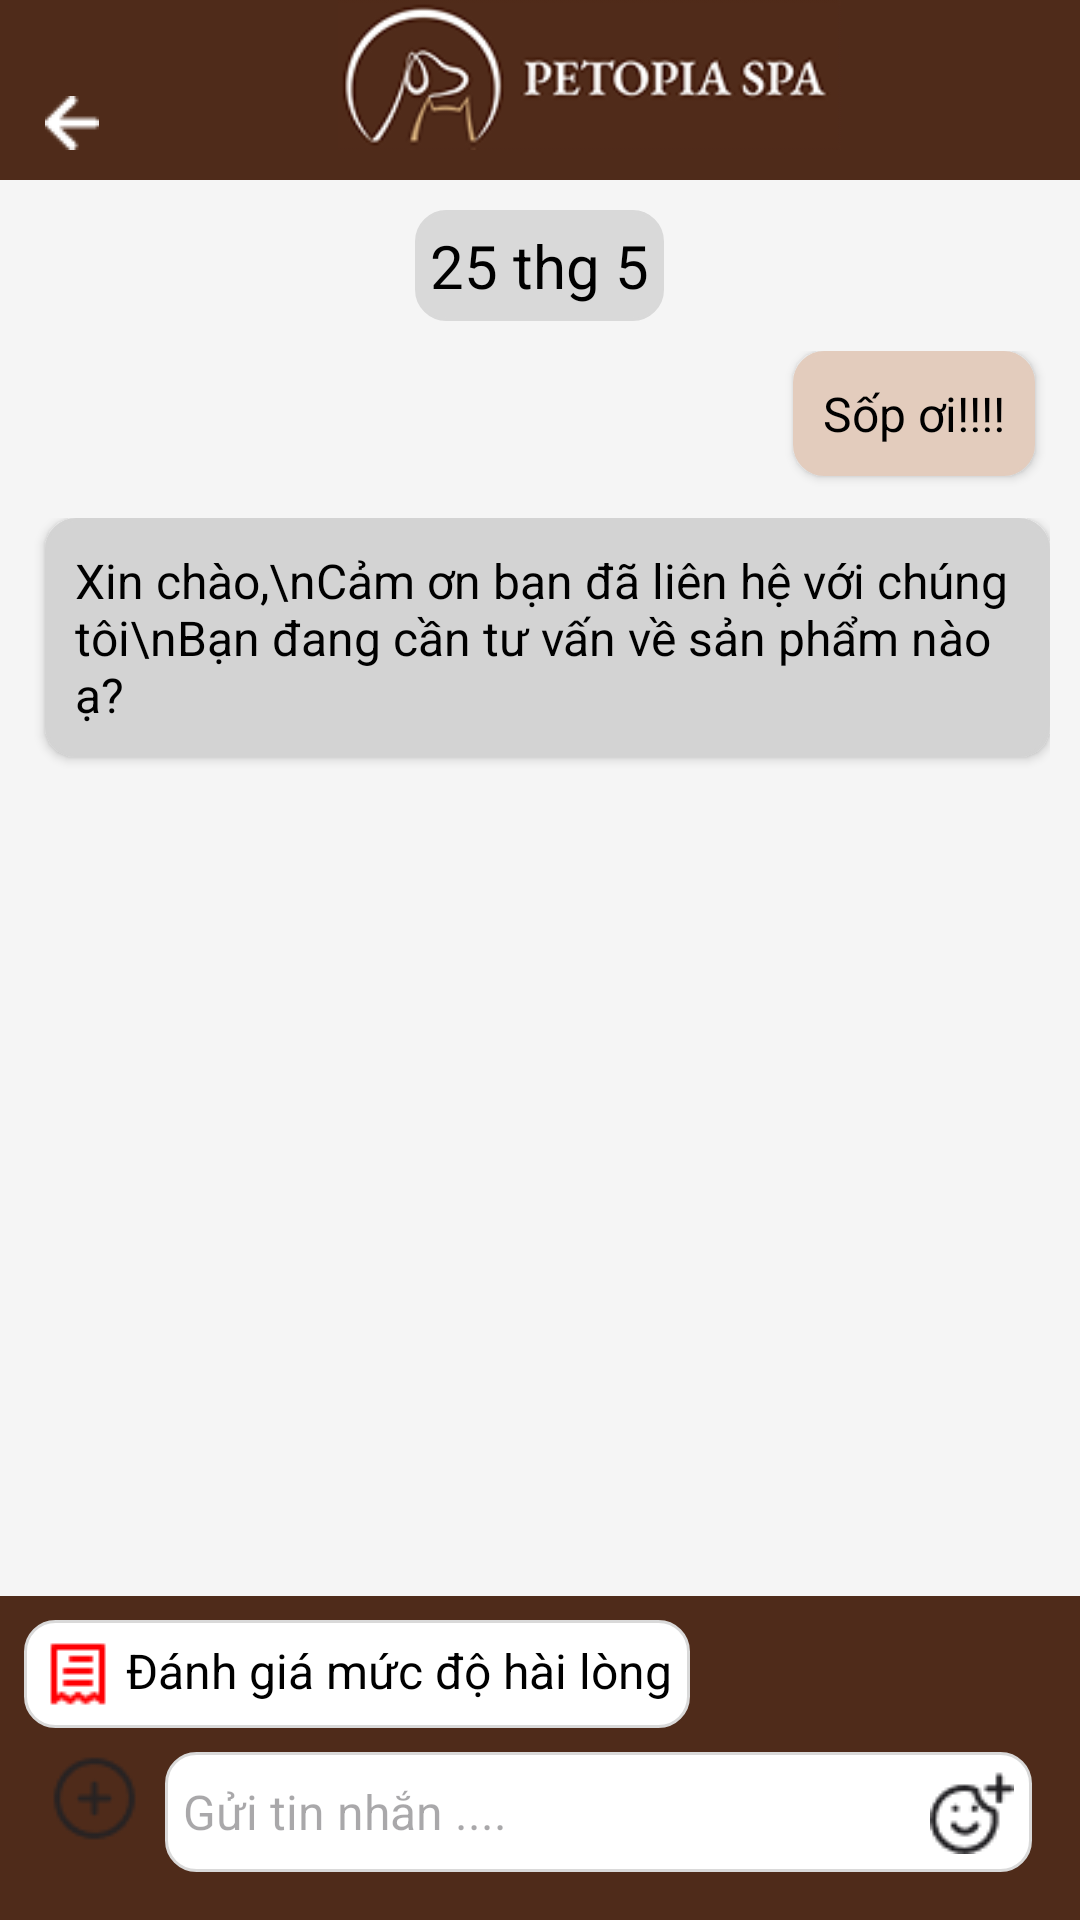

Screen size 1080×1920. Icon name, then its center in pixels as [x,y]:
policy back: [72,123]
qaa add: [94,1798]
qaa smile: [972,1813]
